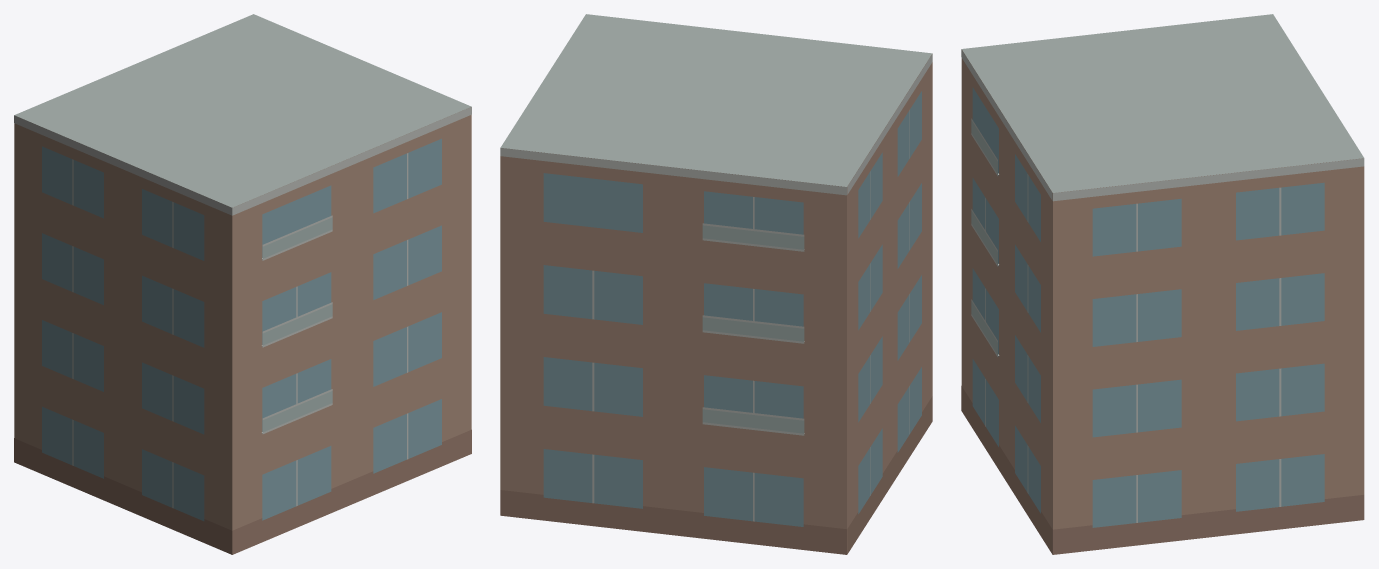
The model's file is survey-upis-32985414.glb.
The picture shows the model from 3 angles, left to right: view 1: azimuth 30°, elevation 25°; view 2: azimuth 150°, elevation 25°; view 3: azimuth 270°, elevation 25°; orthographic projection. The views are drawn at different scales.
Parts seen in each view (by area): view 1: survey-upis-32985414.tmp; view 2: survey-upis-32985414.tmp; view 3: survey-upis-32985414.tmp.
Boxes of the visible parts, x1,y1,x2,y2 form: survey-upis-32985414.tmp: [14, 14, 471, 554]; survey-upis-32985414.tmp: [500, 14, 932, 554]; survey-upis-32985414.tmp: [961, 14, 1364, 554].
Bounding box in the file's own units: 11.37 × 10.7 × 10.81.
